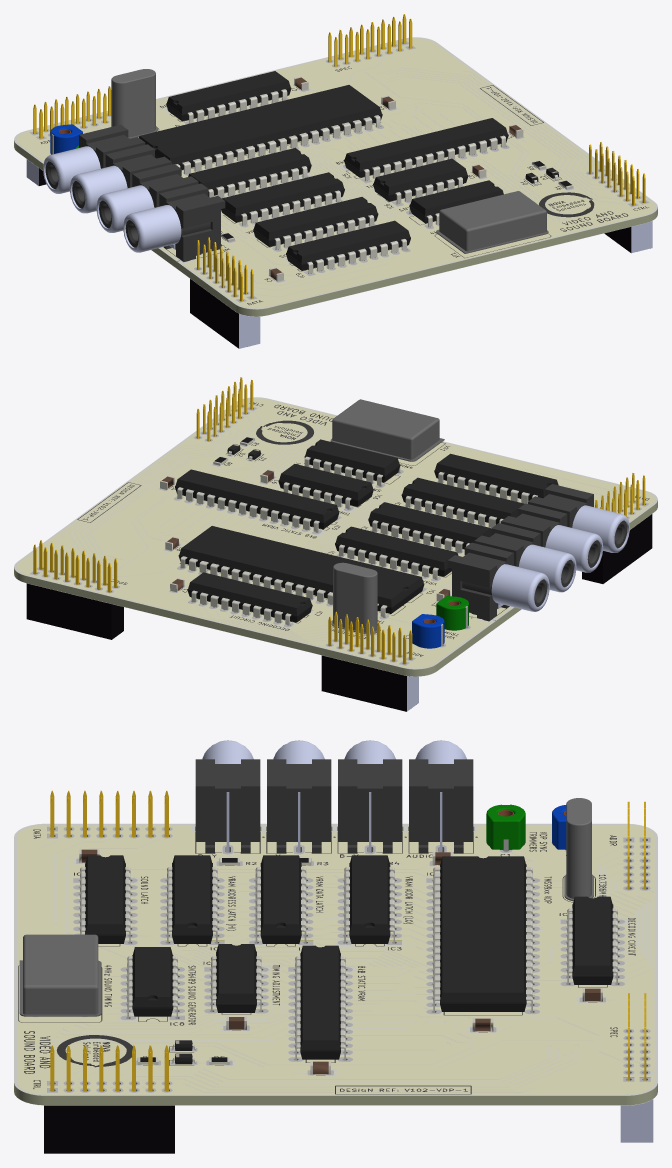
Rendered from vdp.glb.
3 renders of one model, top to bottom at view 1: azimuth 30°, elevation 25°; view 2: azimuth 150°, elevation 25°; view 3: azimuth 270°, elevation 25°, orthographic. The views are drawn at different scales.
Visible parts, largest first — view 1: =>[0:1:1:21], IC3, =>[0:1:1:16], J4, JA44, =>[0:1:1:23], XT1, Y1, =>[0:1:1:17], =>[0:1:1:19], C2; view 2: =>[0:1:1:21], IC3, =>[0:1:1:16], JA44, J4, =>[0:1:1:23], XT1, Y1, =>[0:1:1:17], =>[0:1:1:19], C2, C1; view 3: =>[0:1:1:21], =>[0:1:1:16], IC3, J4, =>[0:1:1:17], JA44, =>[0:1:1:23], XT1, =>[0:1:1:19], Y1, C1, C6 (+1 smaller).
Boxes of the visible parts, x1=… form: =>[0:1:1:21]: x1=14, y1=37, x2=657, y2=316; IC3: x1=139, y1=71, x2=573, y2=281; =>[0:1:1:16]: x1=17, y1=39, x2=654, y2=307; J4: x1=26, y1=124, x2=652, y2=348; JA44: x1=33, y1=14, x2=645, y2=348; =>[0:1:1:23]: x1=14, y1=38, x2=657, y2=316; XT1: x1=436, y1=191, x2=548, y2=253; Y1: x1=111, y1=69, x2=157, y2=138; =>[0:1:1:17]: x1=30, y1=41, x2=648, y2=302; =>[0:1:1:19]: x1=40, y1=66, x2=648, y2=305; C2: x1=50, y1=124, x2=82, y2=154; =>[0:1:1:21]: x1=14, y1=397, x2=657, y2=676; IC3: x1=160, y1=436, x2=558, y2=625; =>[0:1:1:16]: x1=17, y1=399, x2=654, y2=667; JA44: x1=26, y1=377, x2=652, y2=711; J4: x1=407, y1=484, x2=629, y2=711; =>[0:1:1:23]: x1=14, y1=398, x2=657, y2=676; XT1: x1=330, y1=399, x2=444, y2=461; Y1: x1=331, y1=562, x2=377, y2=634; =>[0:1:1:17]: x1=30, y1=404, x2=648, y2=665; =>[0:1:1:19]: x1=77, y1=402, x2=649, y2=656; C2: x1=412, y1=601, x2=467, y2=648; C1: x1=436, y1=596, x2=468, y2=630; =>[0:1:1:21]: x1=14, y1=823, x2=657, y2=1105; =>[0:1:1:16]: x1=18, y1=825, x2=653, y2=1093; IC3: x1=79, y1=849, x2=617, y2=1074; J4: x1=195, y1=740, x2=653, y2=1142; =>[0:1:1:17]: x1=33, y1=826, x2=650, y2=1092; JA44: x1=44, y1=790, x2=646, y2=1153; =>[0:1:1:23]: x1=14, y1=824, x2=657, y2=1105; XT1: x1=19, y1=934, x2=101, y2=1016; =>[0:1:1:19]: x1=18, y1=829, x2=635, y2=1094; Y1: x1=564, y1=798, x2=593, y2=901; C1: x1=486, y1=804, x2=525, y2=849; C6: x1=81, y1=849, x2=600, y2=1074.
Bounding box in the file's own units: 0.1084 × 0.0234 × 0.1.
